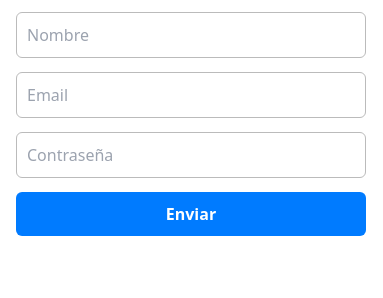
Test: Form › muestra un mensaje de éxito al enviar el formulario
Step 1. Type "Juan" into the field with placeholder "Nombre" → (191, 35), box top-left (16, 12), bottom-right (366, 58)
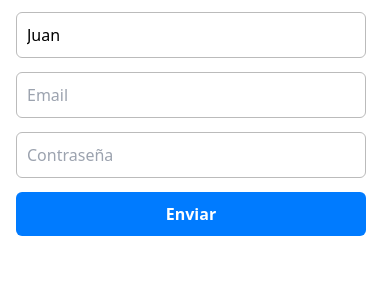
Step 2. Type "juan@mail.com" into the field with placeholder "Email" → (191, 95), box top-left (16, 72), bottom-right (366, 118)
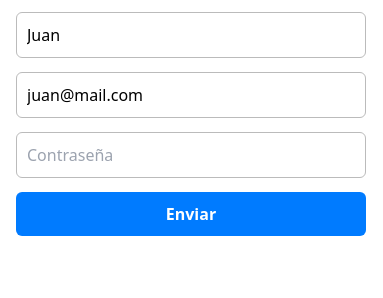
Step 3. Type "1234" into the password field with placeholder "Contraseña" → (191, 155), box top-left (16, 132), bottom-right (366, 178)
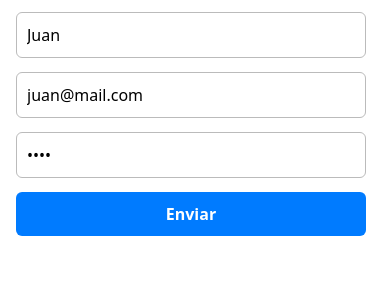
Step 4. Click the button "Enviar" → (191, 214), box top-left (16, 192), bottom-right (366, 236)
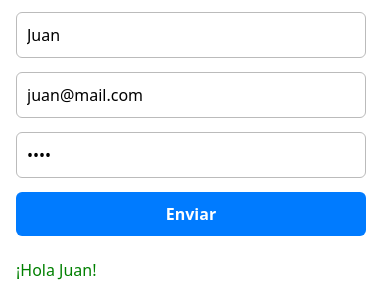
Expected: the text with test id "success-message" reads "¡Hola Juan!", top-left (16, 259), bottom-right (96, 281)
